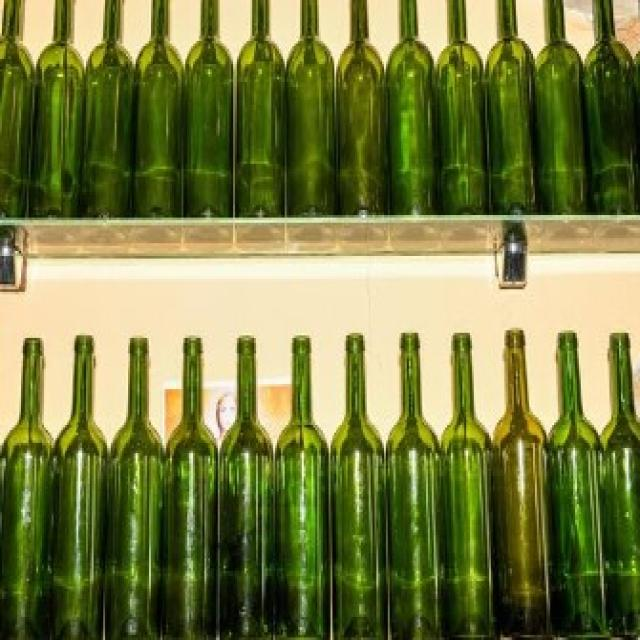electronic: (0, 334, 640, 640), (0, 0, 640, 217)
